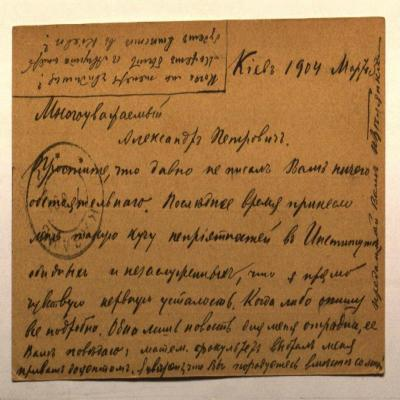document: (11, 15, 385, 382)
